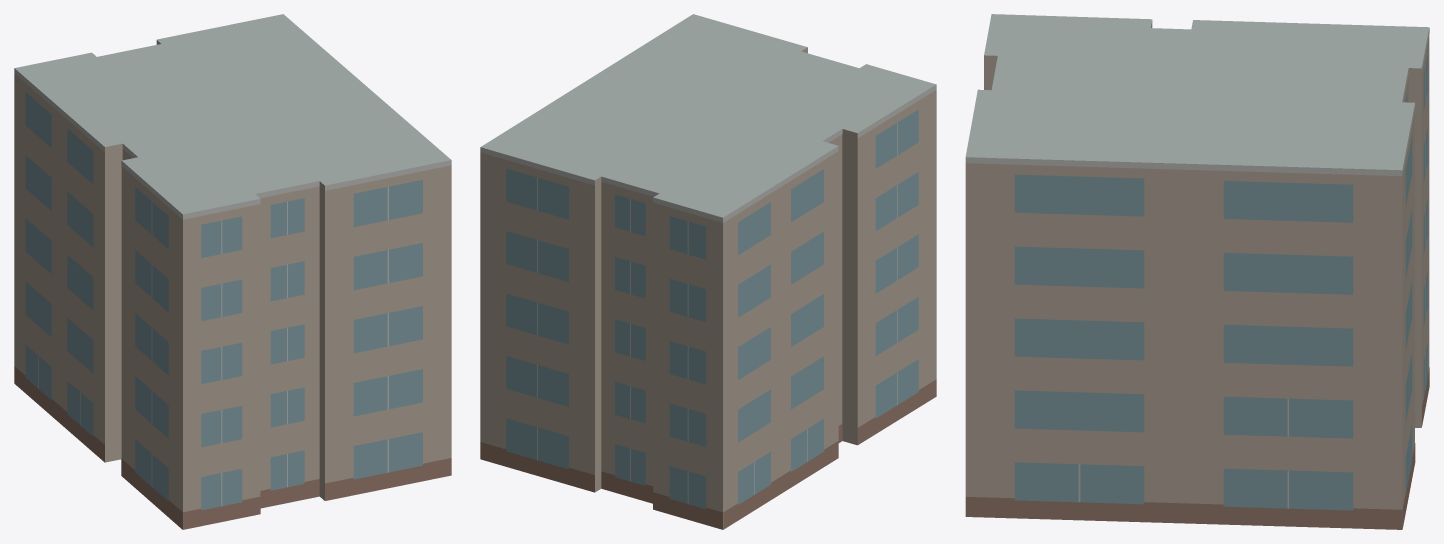
File: survey-upis-32856477.glb
The picture shows the model from 3 angles, left to right: view 1: azimuth 30°, elevation 25°; view 2: azimuth 150°, elevation 25°; view 3: azimuth 270°, elevation 25°; orthographic projection. The views are drawn at different scales.
Visible parts, largest first — view 1: survey-upis-32856477.tmp; view 2: survey-upis-32856477.tmp; view 3: survey-upis-32856477.tmp.
Boxes of the visible parts, x1,y1,x2,y2 form: survey-upis-32856477.tmp: (14,14,451,529); survey-upis-32856477.tmp: (480,14,936,529); survey-upis-32856477.tmp: (965,14,1429,529).
Bounding box in the file's own units: 13.61 × 14.6 × 17.08.
